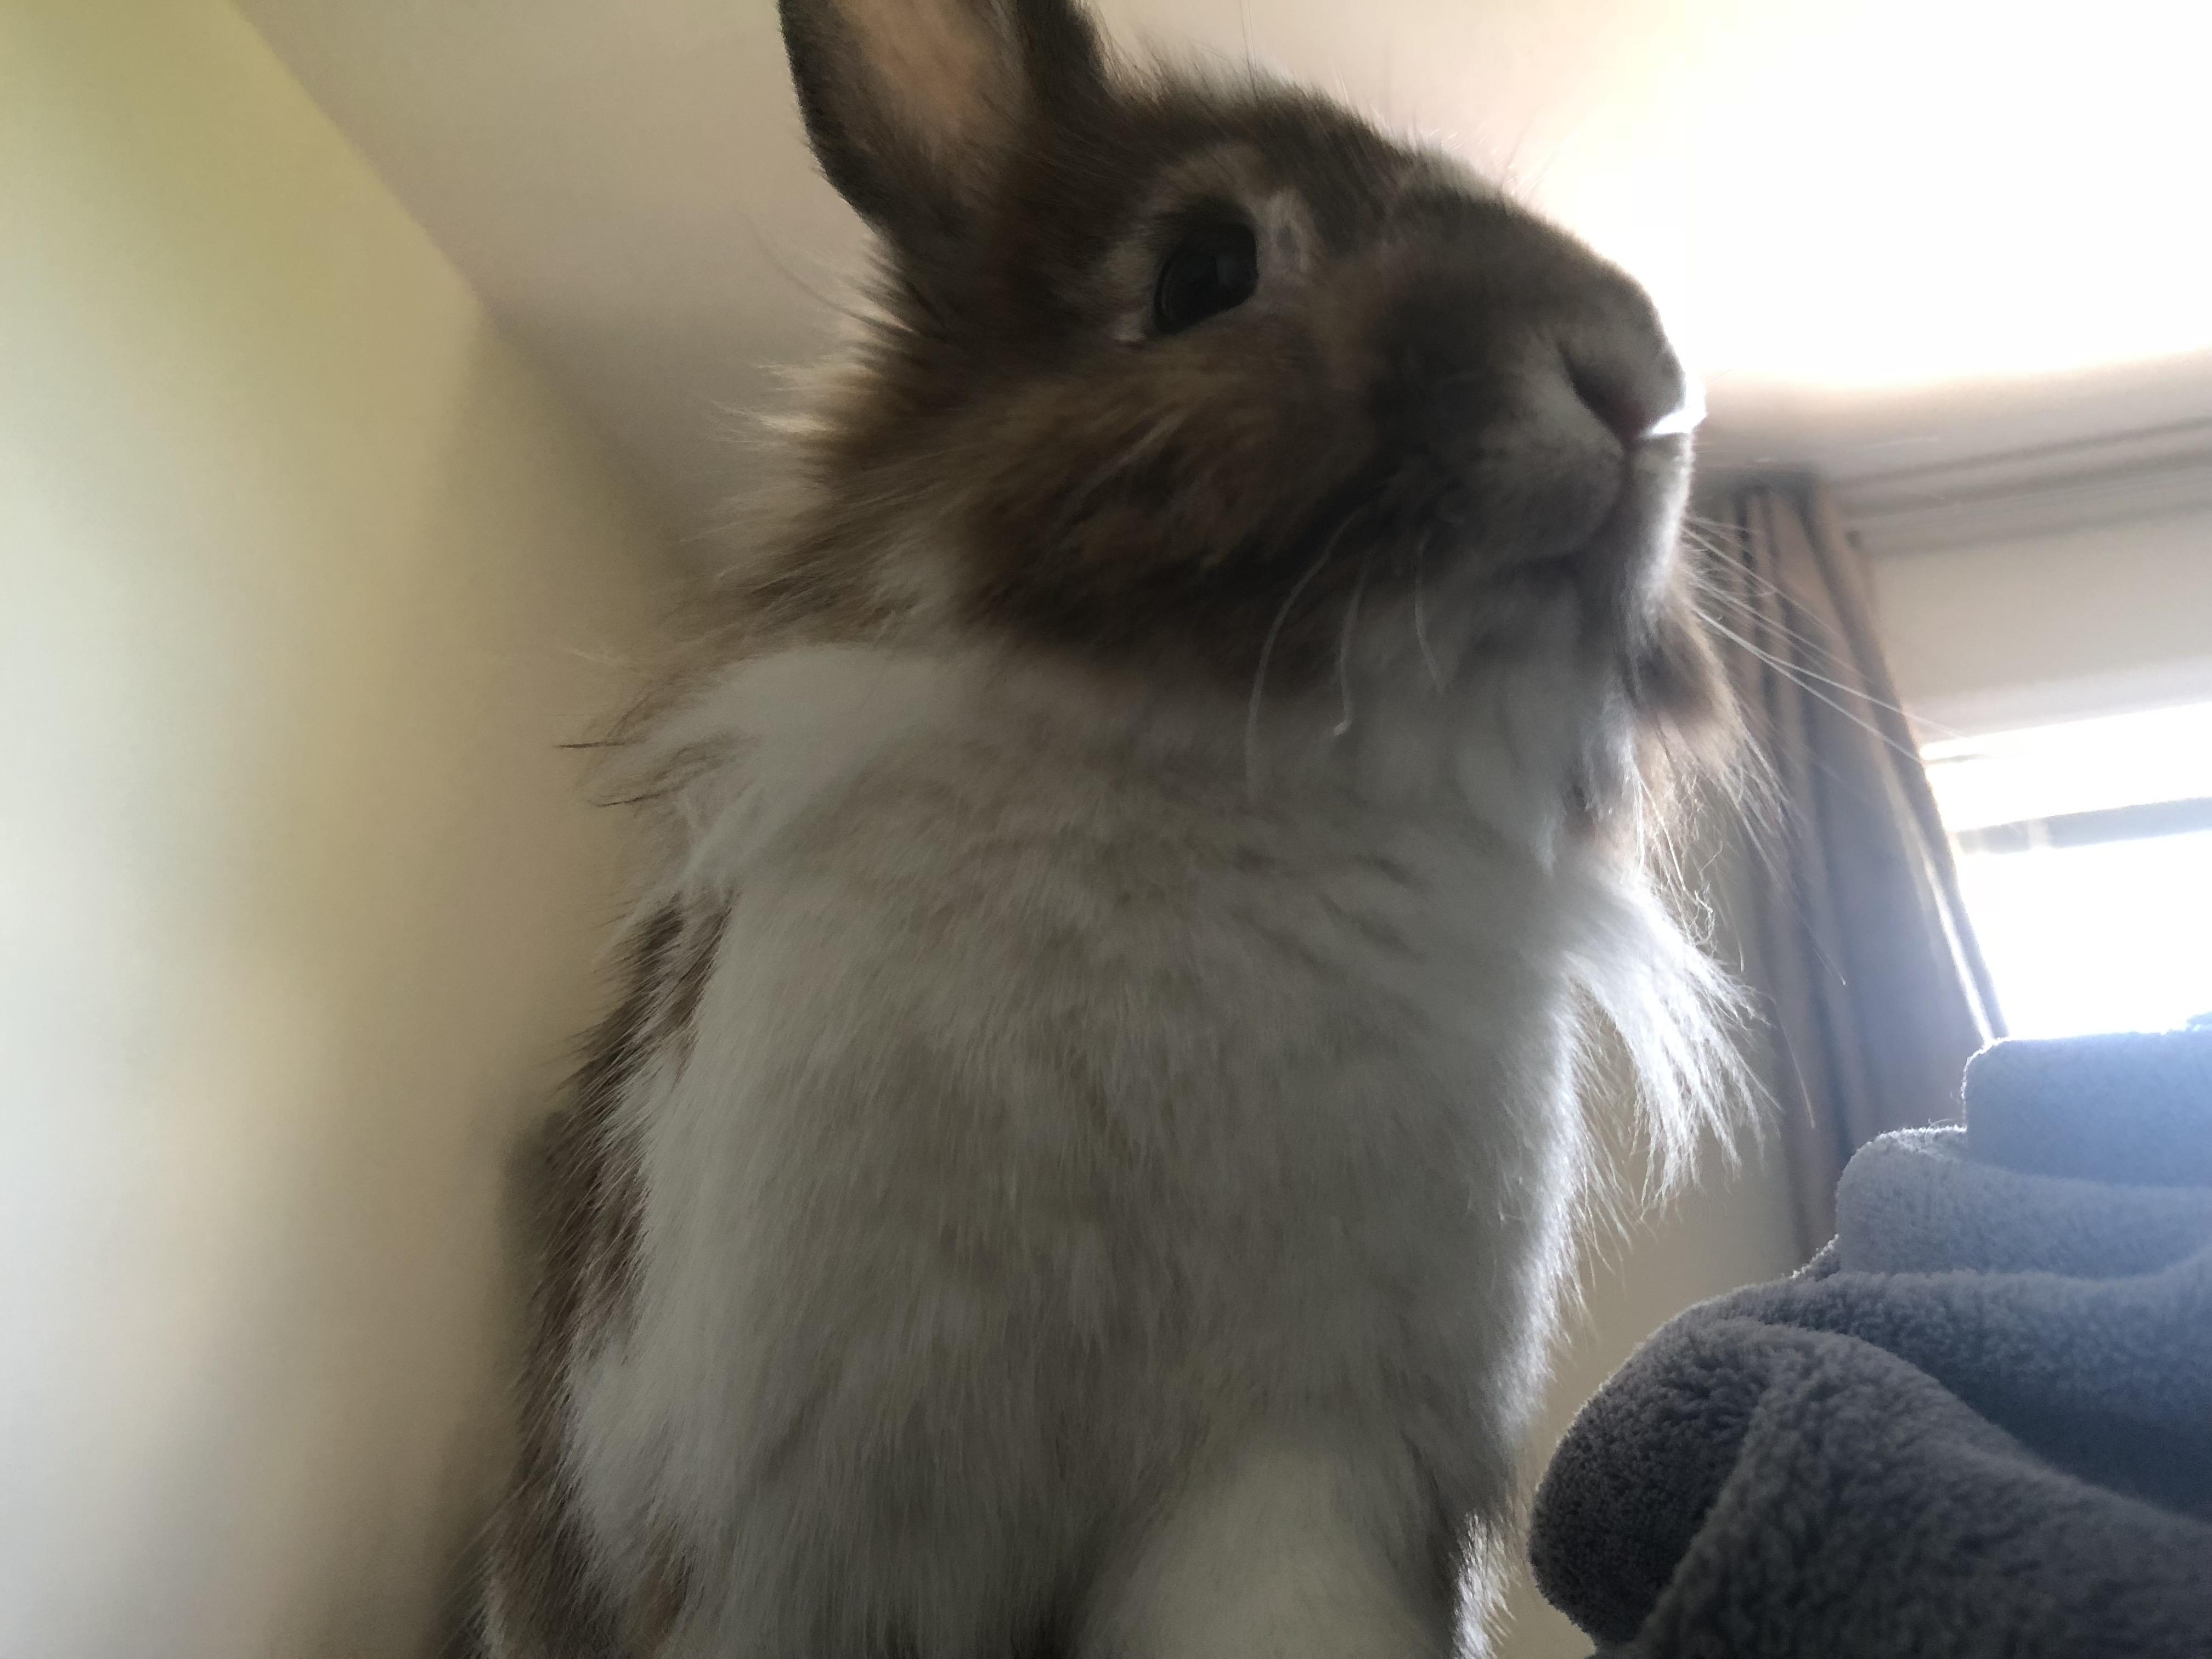bunny: (509, 12, 1728, 1659)
